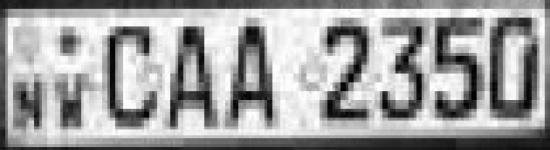0: (483, 14, 542, 123)
2: (307, 17, 375, 126)
3: (376, 12, 432, 126)
5: (431, 13, 488, 127)
A: (220, 18, 283, 131), (165, 20, 219, 132)
C: (100, 20, 164, 132)
N: (12, 68, 49, 136)
W: (49, 64, 90, 136)
